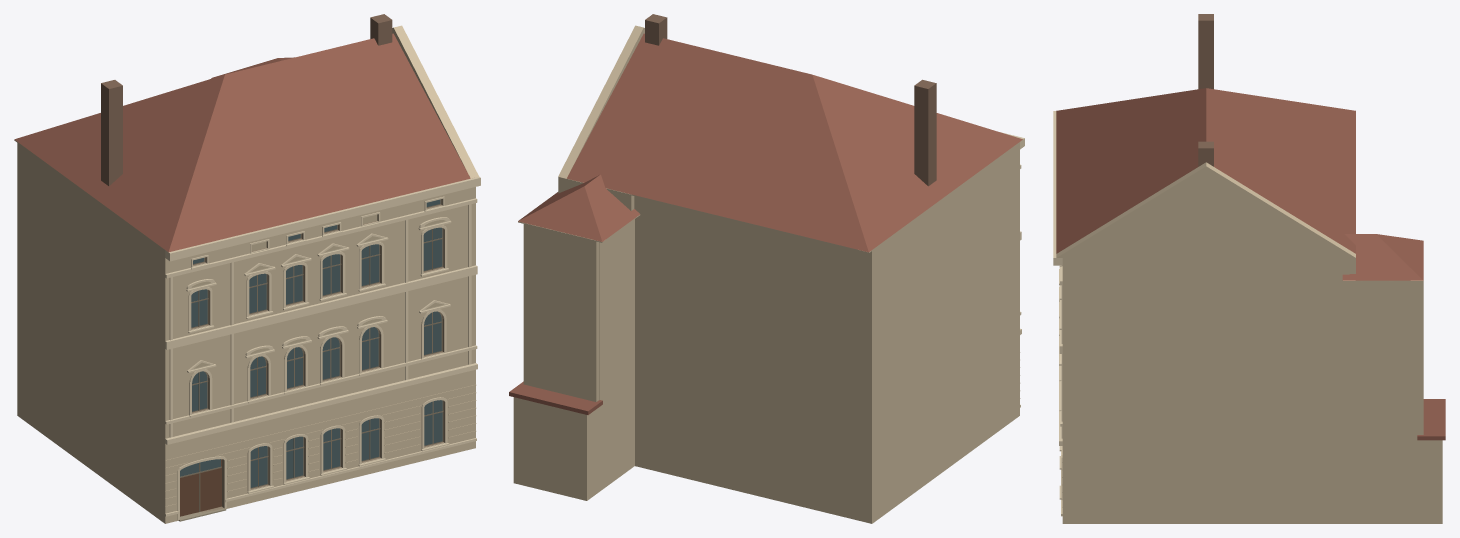
Rendered from 262-claude-pruceli-v1.glb.
The picture shows the model from 3 angles, left to right: view 1: azimuth 30°, elevation 25°; view 2: azimuth 150°, elevation 25°; view 3: azimuth 270°, elevation 25°; orthographic projection. The views are drawn at different scales.
Visible parts, largest first — view 1: Pruceli, Strecha, Hmota, Stresni_prvky; view 2: Hmota, Strecha, Stresni_prvky; view 3: Hmota, Strecha, Pruceli, Stresni_prvky.
Boxes of the visible parts, x1,y1,x2,y2 form: Pruceli: (165,176,480,523); Strecha: (14,33,470,252); Hmota: (14,25,478,523); Stresni_prvky: (101,14,392,185); Hmota: (513,25,1019,523); Strecha: (509,33,1022,414); Stresni_prvky: (645,14,936,186); Hmota: (1056,162,1442,523); Strecha: (1056,88,1445,440); Pruceli: (1053,111,1062,516); Stresni_prvky: (1198,14,1213,166).
Bounding box in the file's own units: 16.8 × 19.3 × 18.6.
